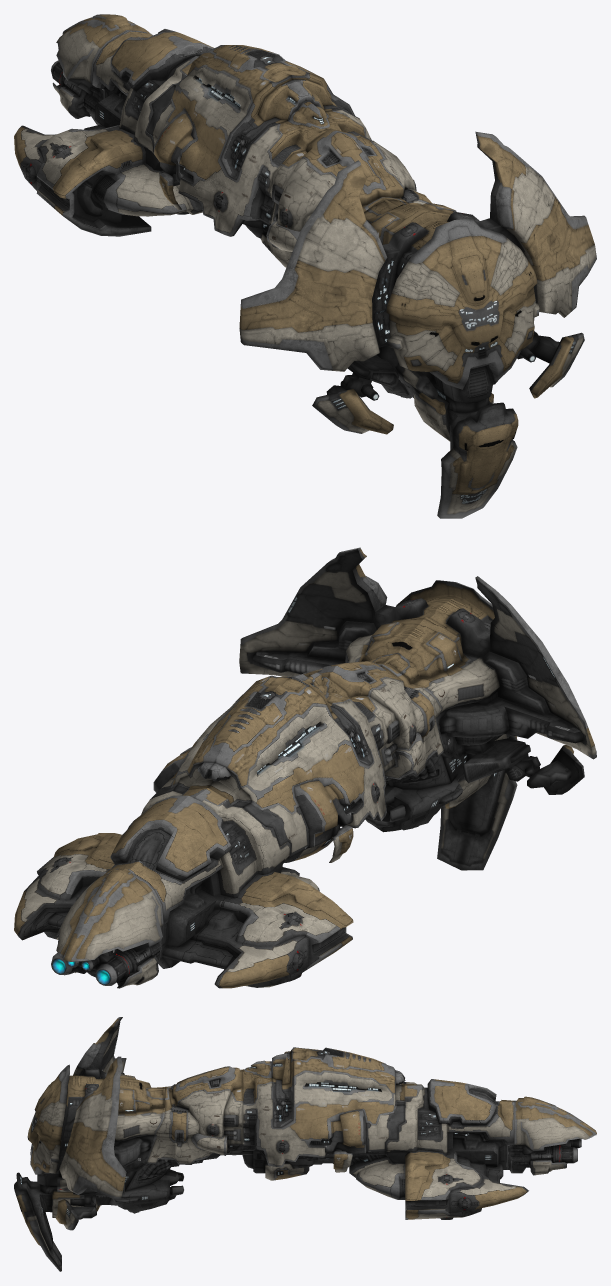
The model's file is 29986_Legion2212_lite.glb.
3 views of the same model, one above another, from view 1: azimuth 30°, elevation 25°; view 2: azimuth 150°, elevation 25°; view 3: azimuth 270°, elevation 25° (orthographic). The views are drawn at different scales.
Visible parts, largest first — view 1: asc1_t3_s1v2, asc1_t3_s2v2, asc1_t3_s3v1, asc1_t3_s4v2; view 2: asc1_t3_s1v2, asc1_t3_s3v1, asc1_t3_s2v2, asc1_t3_s4v2; view 3: asc1_t3_s1v2, asc1_t3_s2v2, asc1_t3_s3v1, asc1_t3_s4v2.
Part boxes in pixels (x1=…): asc1_t3_s1v2: x1=239, y1=128, x2=596, y2=518; asc1_t3_s2v2: x1=146, y1=45, x2=371, y2=267; asc1_t3_s3v1: x1=14, y1=29, x2=214, y2=236; asc1_t3_s4v2: x1=51, y1=14, x2=152, y2=124; asc1_t3_s1v2: x1=239, y1=547, x2=596, y2=870; asc1_t3_s3v1: x1=14, y1=788, x2=353, y2=988; asc1_t3_s2v2: x1=151, y1=672, x2=386, y2=862; asc1_t3_s4v2: x1=51, y1=868, x2=163, y2=988; asc1_t3_s1v2: x1=14, y1=1017, x2=242, y2=1271; asc1_t3_s2v2: x1=226, y1=1047, x2=405, y2=1180; asc1_t3_s3v1: x1=317, y1=1079, x2=528, y2=1219; asc1_t3_s4v2: x1=507, y1=1096, x2=596, y2=1175.
Size of the model in its own units: 2.05 by 1.89 by 4.3.
Materials: 4 (4 with a texture image).
